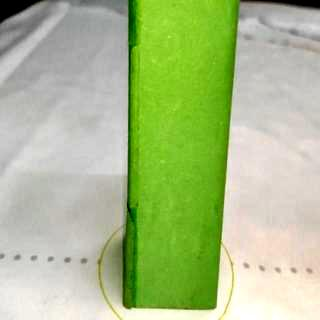greenbox: (121, 0, 244, 311)
